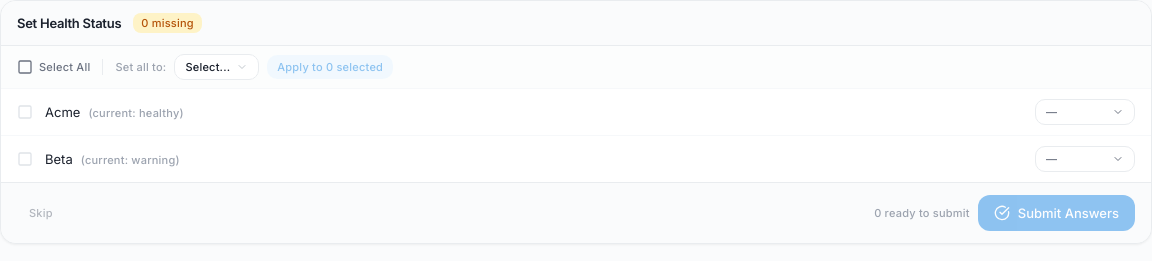
BatchEnrichmentPanel › Entity Selection States › 3. Select All selects all entities
The image size is (1152, 261).
Click the button "Select All" at (54, 67), box [17,59,90,75]
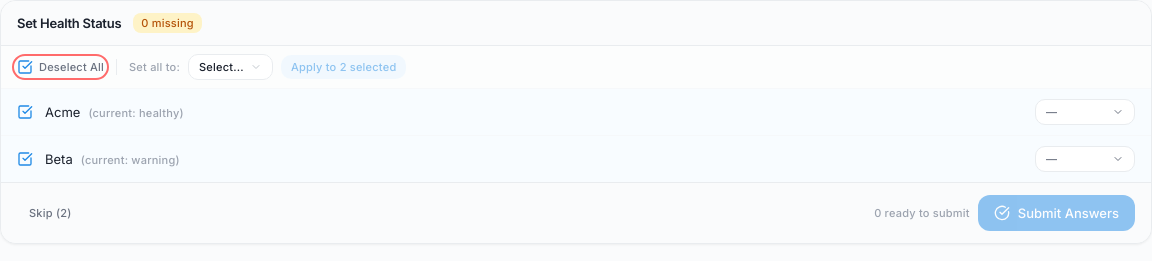
Check: the button "Deselect All" is shown, box [17,59,104,75]
